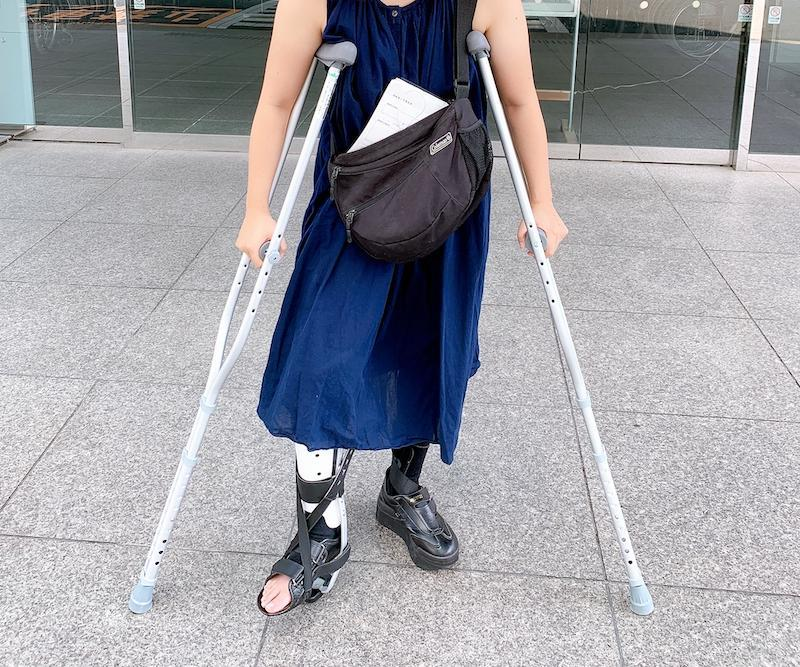crutches: (127, 0, 655, 615)
